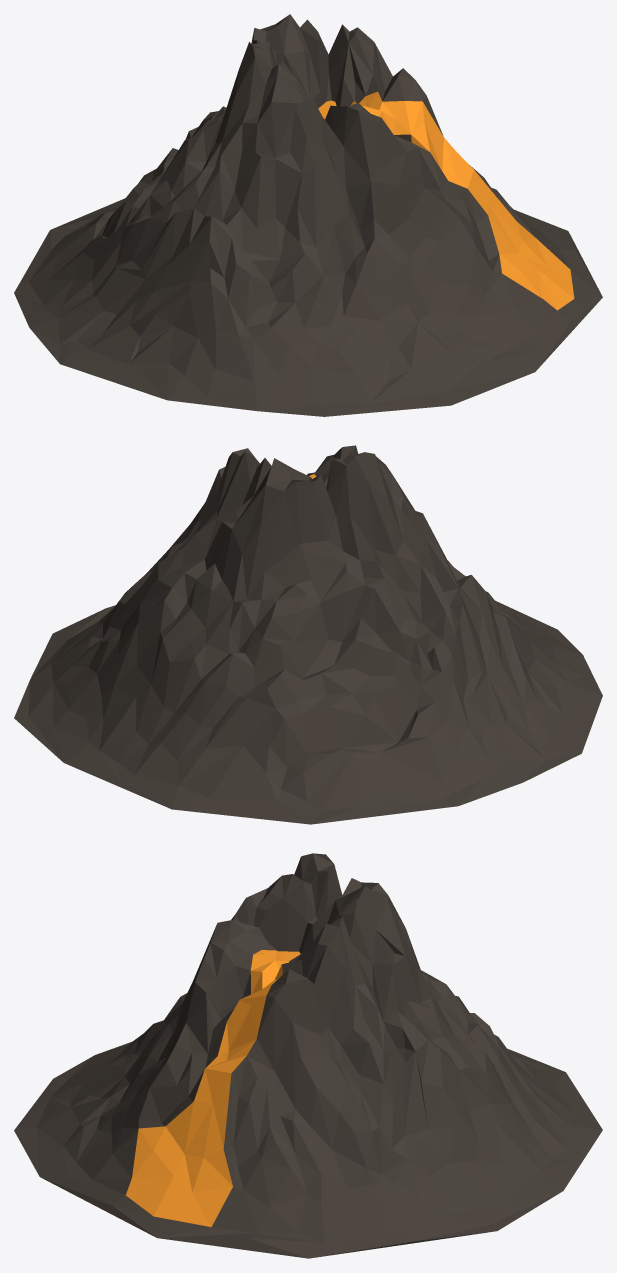
File: Volcano.fbx
3 views of the same model, one above another, from view 1: azimuth 30°, elevation 25°; view 2: azimuth 150°, elevation 25°; view 3: azimuth 270°, elevation 25° (orthographic).
Visible parts, largest first — view 1: Landscape.001; view 2: Landscape.001; view 3: Landscape.001.
Boxes of the visible parts, x1,y1,x2,y2 form: Landscape.001: [14, 14, 602, 416]; Landscape.001: [14, 445, 602, 824]; Landscape.001: [14, 853, 602, 1258].
Bounding box in the file's own units: 200 × 200 × 95.65.
